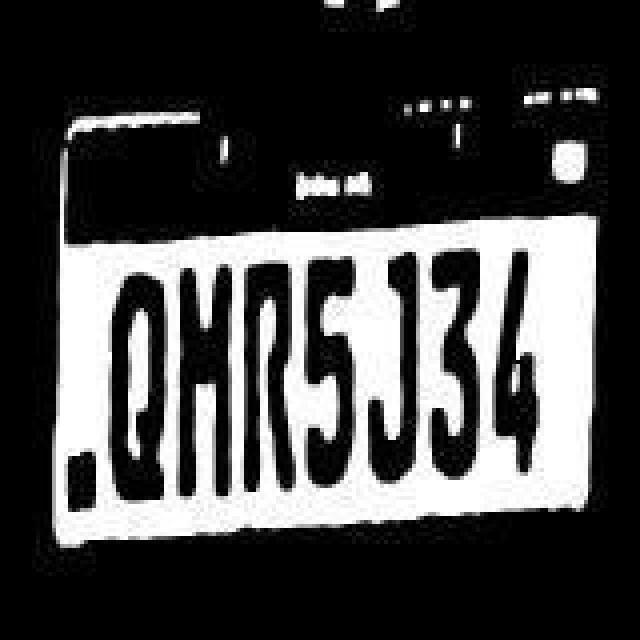3: (430, 242, 490, 478)
4: (490, 246, 542, 482)
5: (306, 248, 358, 488)
J: (364, 246, 420, 490)
M: (176, 264, 232, 504)
Q: (104, 260, 168, 508)
R: (242, 260, 294, 492)
